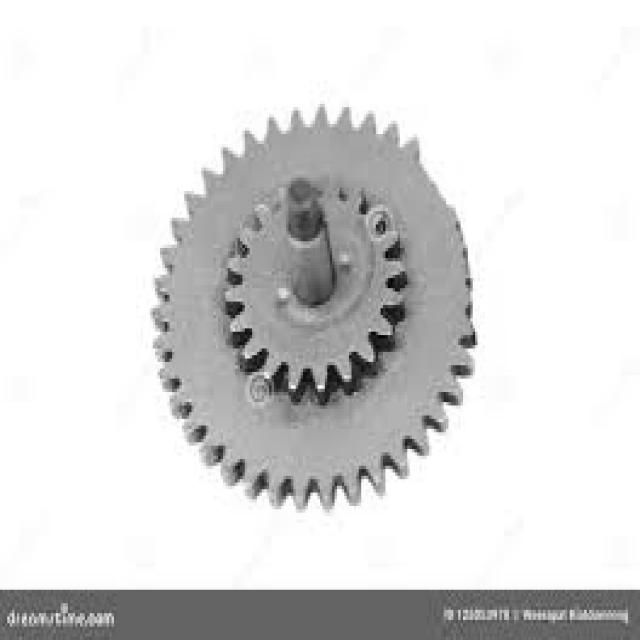Fault-Exist: (151, 62, 489, 560), (361, 107, 481, 452)
